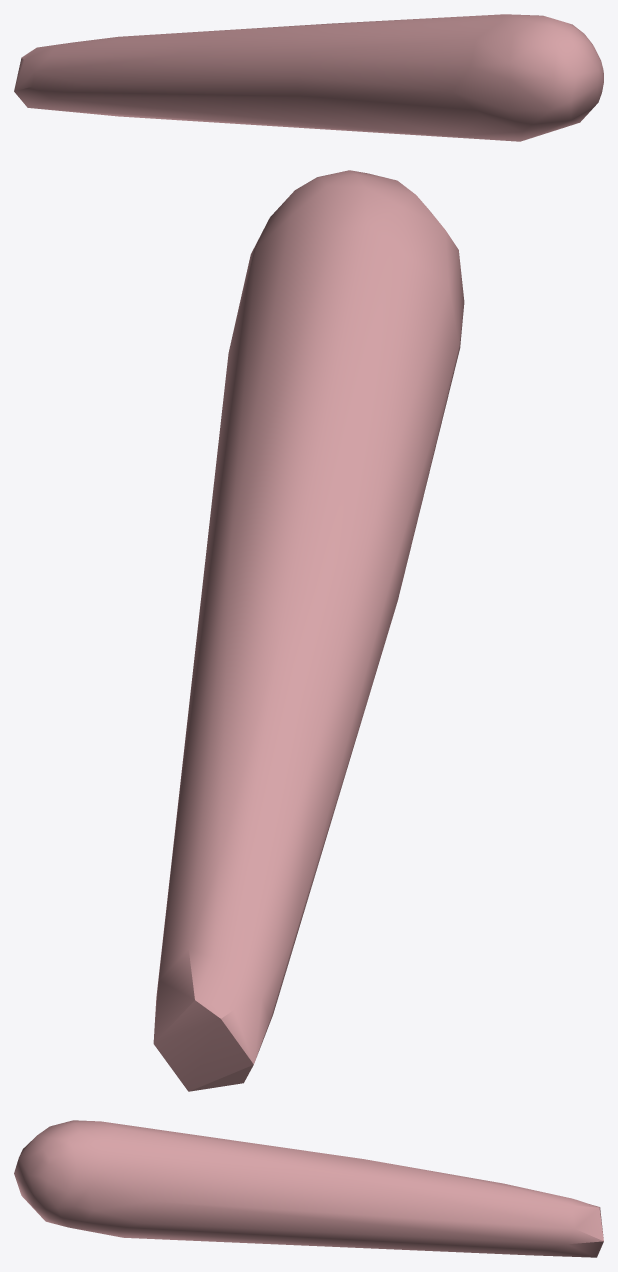
Rendered from fma68591_fj6565.glb.
3 renders of one model, top to bottom at view 1: azimuth 30°, elevation 25°; view 2: azimuth 150°, elevation 25°; view 3: azimuth 270°, elevation 25°, orthographic. The views are drawn at different scales.
Parts seen in each view (by area): view 1: FMA68591_FJ6565; view 2: FMA68591_FJ6565; view 3: FMA68591_FJ6565.
Part boxes in pixels (x1,y1,x2,y2): FMA68591_FJ6565: [14, 14, 603, 141]; FMA68591_FJ6565: [153, 170, 464, 1091]; FMA68591_FJ6565: [14, 1120, 603, 1257].
Bounding box in the file's own units: 0.00497 × 0.00407 × 0.00994.
